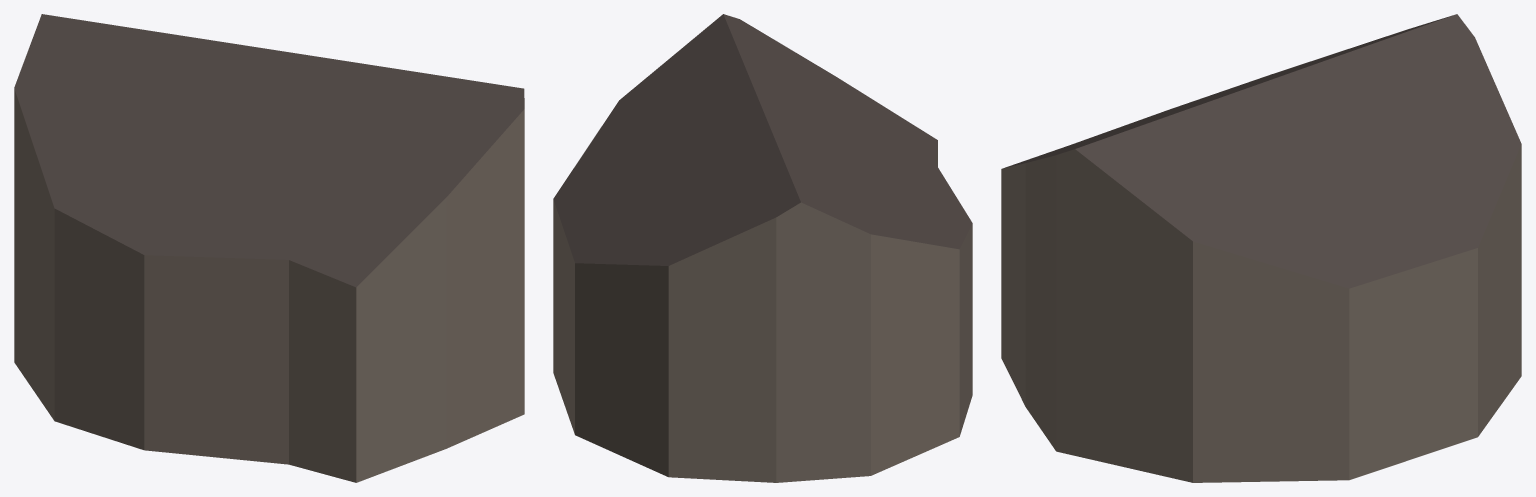
3 renders of one model, left to right at view 1: azimuth 30°, elevation 25°; view 2: azimuth 150°, elevation 25°; view 3: azimuth 270°, elevation 25°, orthographic. The views are drawn at different scales.
Parts seen in each view (by area): view 1: HP-w1510972566; view 2: HP-w1510972566; view 3: HP-w1510972566.
Part boxes in pixels (x1,y1,x2,y2): HP-w1510972566: (14,14,524,482); HP-w1510972566: (553,14,972,482); HP-w1510972566: (1001,14,1521,482).
Bounding box in the file's own units: 20.56 × 14.58 × 22.41.
